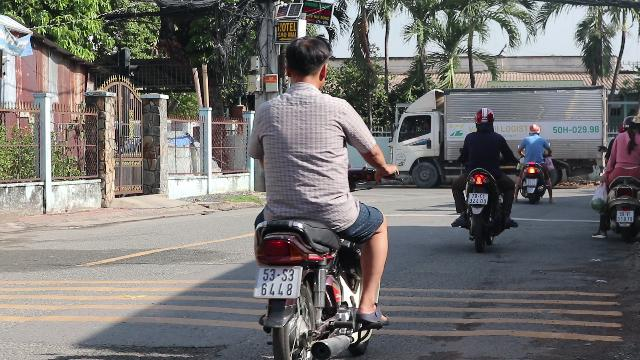helmet: (473, 108, 495, 130), (622, 113, 640, 133)
licenseplate: (254, 266, 302, 298), (468, 193, 488, 204), (617, 210, 633, 221)
motorcyclist: (239, 37, 399, 357), (448, 108, 518, 250), (590, 111, 640, 241)
nohelmet: (281, 36, 331, 90)
